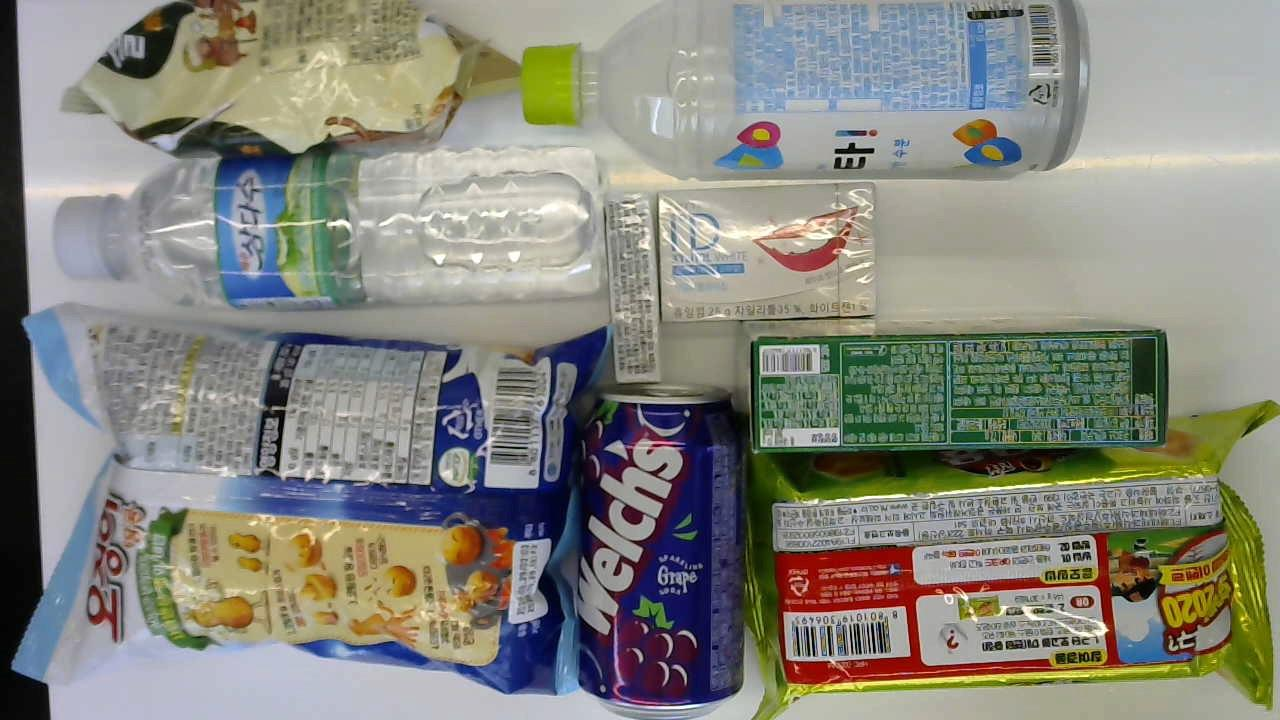ID_gum: (9, 321, 609, 701), (656, 182, 881, 322)
couque_coffee: (736, 312, 1173, 457)
homerunball: (743, 397, 1280, 718)
jjolbyung_ori: (58, 2, 522, 157)
samdasu: (50, 143, 602, 313)
spearmint: (601, 186, 666, 383)
squid_peanut: (9, 321, 609, 701)
toreta: (517, 0, 1089, 176)
welchs: (572, 377, 745, 717)
